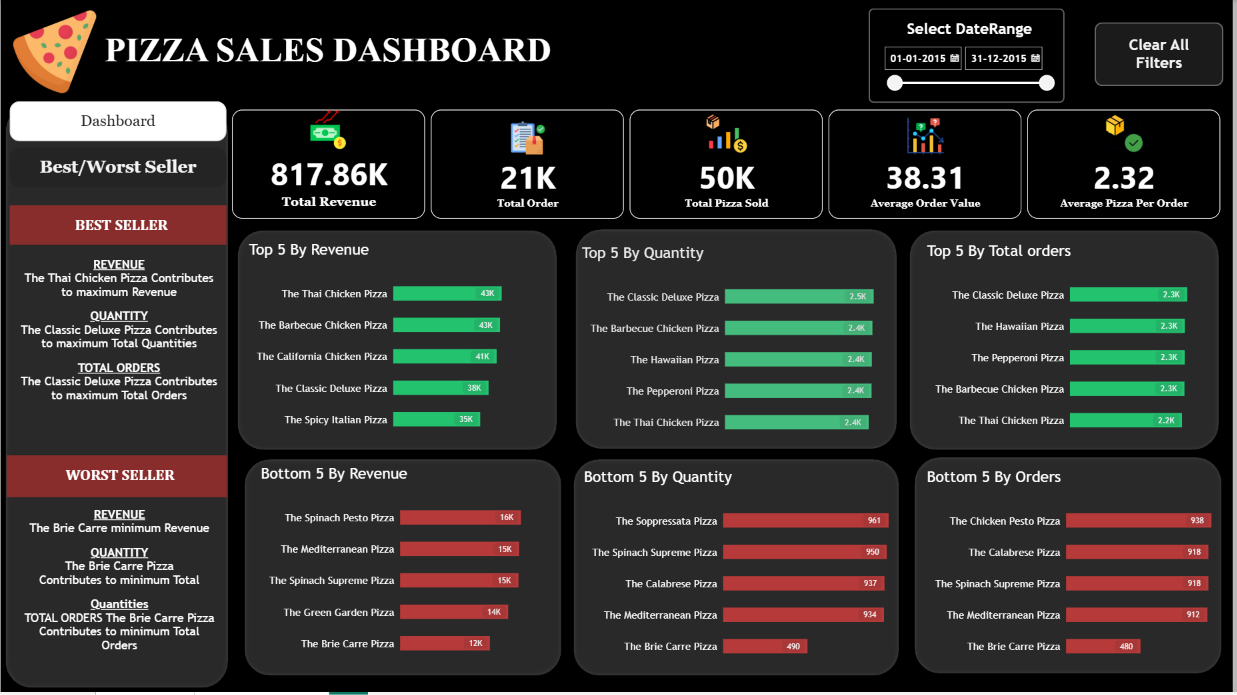

The dashboard page shown, as its layout file describes it:
{"tool":"powerbi","page":{"name":"Best/Worst Seller","canvas":[1920,1080],"ordinal":1},"visuals":[{"type":"shape","box":[362.9,353.9,509.7,354.6],"z":0},{"type":"textbox","box":[10,0,280,280],"z":1000},{"type":"shape","box":[374.3,710.4,506,349.5],"z":2000},{"type":"barChart","title":"Top 5 By Revenue","fields":{"Category":["pizza_sales pizza_sales.pizza_name"],"Y":["KPIs.Total Revenue"]},"box":[371.9,362.3,490.6,341.9],"z":3000},{"type":"barChart","title":"Top 5 By Quantity","fields":{"Category":["pizza_sales pizza_sales.pizza_name"],"Y":["KPIs.Total Pizza Sold"]},"box":[890.5,366.9,538.6,341.9],"z":4000},{"type":"textbox","box":[10,290,280,280],"z":5000},{"type":"shape","box":[890.5,351.9,512.9,354.6],"z":6000},{"type":"shape","box":[887.4,711.2,519.5,349.6],"z":7000},{"type":"cardVisual","fields":{"Data":["KPIs.Total Revenue","KPIs.Total Order","KPIs.Total Pizza Sold","KPIs.Average Order Value","KPIs.Average Pizza Per Order"]},"box":[361,171.9,1545,171.9],"z":8000},{"type":"shape","box":[1419.1,708.5,490.7,349.5],"z":9000},{"type":"shape","box":[1411.7,353.4,494.3,354.6],"z":10000},{"type":"shape","box":[1.9,158.5,359,920.5],"z":11000},{"type":"textbox","box":[162.3,47.7,842.2,80.2],"z":12000},{"type":"image","box":[15.3,13.4,137.5,135.6],"z":13000},{"type":"slicer","title":"Select DateRange","fields":{"Values":["pizza_sales pizza_sales.order_date"]},"box":[1354.1,13.4,305.6,147.1],"z":14000},{"type":"actionButton","box":[1705.5,36.3,200.5,99.3],"z":15000},{"type":"textbox","box":[11.7,792.1,348.5,286.8],"z":16000},{"type":"textbox","box":[13.3,321.9,338,61.1],"z":17000},{"type":"textbox","box":[10,710.4,343.5,65],"z":18000},{"type":"textbox","box":[15,401.9,338,276.9],"z":19000},{"type":"pageNavigator","box":[13.3,158.4,338,135.6],"z":20000},{"type":"barChart","title":"Top 5 By Total orders","fields":{"Category":["pizza_sales pizza_sales.pizza_name"],"Y":["KPIs.Total Order"]},"box":[1428.5,362.9,490.6,341.9],"z":21000},{"type":"barChart","title":"Bottom 5 By Revenue","fields":{"Category":["pizza_sales pizza_sales.pizza_name"],"Y":["KPIs.Total Revenue"]},"box":[389.6,710.5,490.6,341.9],"z":22000},{"type":"barChart","title":"Bottom 5 By Quantity","fields":{"Category":["pizza_sales pizza_sales.pizza_name"],"Y":["KPIs.Total Pizza Sold"]},"box":[893.8,716.2,517.6,341.9],"z":23000},{"type":"barChart","title":"Bottom 5 By Orders","fields":{"Category":["pizza_sales pizza_sales.pizza_name"],"Y":["KPIs.Total Order"]},"box":[1428.5,715.4,490.6,341.9],"z":24000}]}

Visuals, with their boxes in screenshot pixels (x1, y1, x2, y2), scaled from the page's 1920x1080 canvas onto the 1237x695 screenshot:
shape: [234, 228, 562, 456]
textbox: [6, 0, 187, 180]
shape: [241, 457, 567, 682]
"Top 5 By Revenue" barChart: [240, 233, 556, 453]
"Top 5 By Quantity" barChart: [574, 236, 921, 456]
textbox: [6, 187, 187, 367]
shape: [574, 226, 904, 455]
shape: [572, 458, 906, 683]
cardVisual - KPIs.Total Revenue x KPIs.Total Order: [233, 111, 1228, 221]
shape: [914, 456, 1230, 681]
shape: [910, 227, 1228, 456]
shape: [1, 102, 233, 694]
textbox: [105, 31, 647, 82]
image: [10, 9, 98, 96]
"Select DateRange" slicer: [872, 9, 1069, 103]
actionButton: [1099, 23, 1228, 87]
textbox: [8, 510, 232, 694]
textbox: [9, 207, 226, 246]
textbox: [6, 457, 228, 499]
textbox: [10, 259, 227, 437]
pageNavigator: [9, 102, 226, 189]
"Top 5 By Total orders" barChart: [920, 234, 1236, 454]
"Bottom 5 By Revenue" barChart: [251, 457, 567, 677]
"Bottom 5 By Quantity" barChart: [576, 461, 909, 681]
"Bottom 5 By Orders" barChart: [920, 460, 1236, 680]
